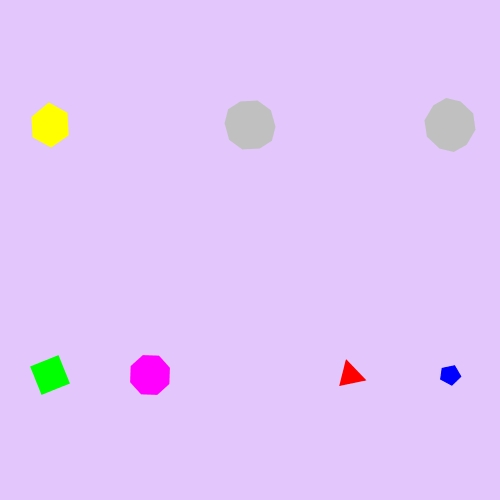decagon: (220, 97, 281, 153), (420, 97, 481, 153)
hexagon: (24, 103, 76, 147)
octagon: (125, 350, 175, 400)
pentagon: (436, 361, 465, 390)
quadrilateral: (25, 350, 75, 400)
triangle: (334, 358, 367, 392)
